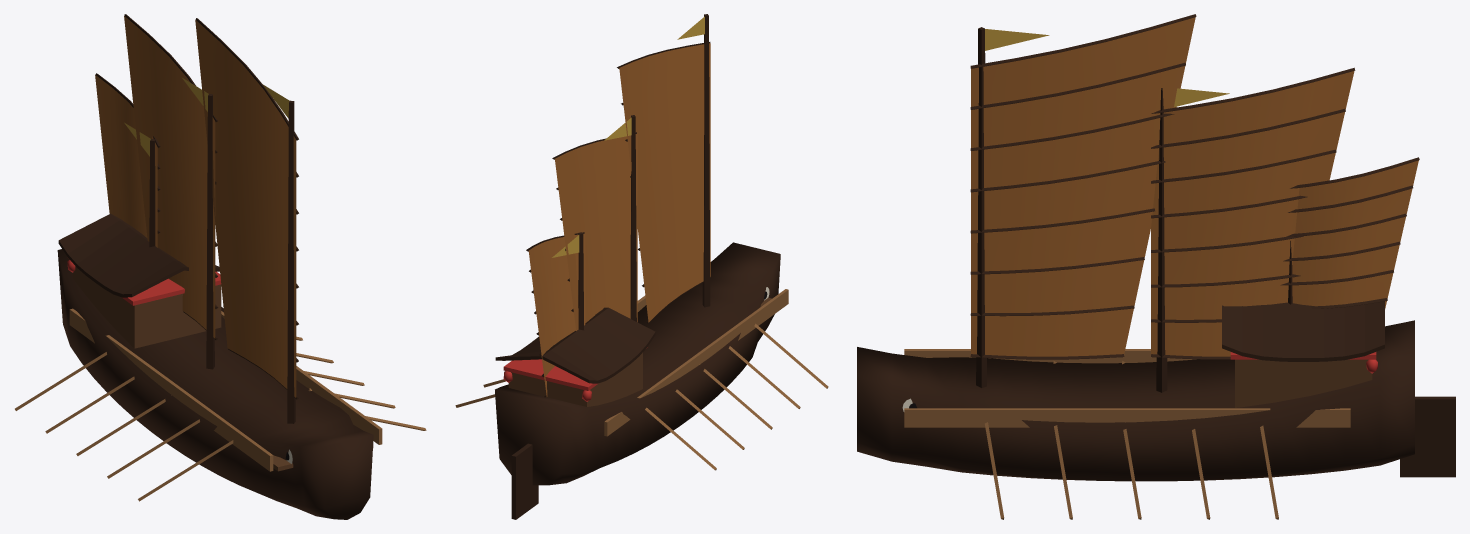
The model's file is thuyen_nam_han.lite.glb.
3 renders of one model, left to right at view 1: azimuth 30°, elevation 25°; view 2: azimuth 150°, elevation 25°; view 3: azimuth 270°, elevation 25°, orthographic. The views are drawn at different scales.
Visible parts, largest first — view 1: than, buom0, buom1, mai, buom2, lau, man-1, cot0, cot1, man1, lau_cot, cot2; view 2: than, buom0, buom1, mai, buom2, lau, man-1, cot0, lai, cot1, lau_cot, cot2; view 3: than, buom0, buom1, buom2, mai, man1, lau, lai, cot0, cot1, man-1, buom0_nep7 (+8 smaller).
Boxes of the visible parts, <box> form: than: <box>57,249,373,519</box>; buom0: <box>195,20,296,397</box>; buom1: <box>124,15,215,338</box>; mai: <box>58,213,219,297</box>; buom2: <box>95,75,157,247</box>; lau: <box>73,266,221,348</box>; man-1: <box>69,308,273,471</box>; cot0: <box>287,100,295,423</box>; cot1: <box>206,94,214,369</box>; man1: <box>221,311,382,444</box>; lau_cot: <box>67,257,221,305</box>; cot2: <box>149,139,155,247</box>; than: <box>495,242,780,485</box>; buom0: <box>619,43,710,322</box>; buom1: <box>555,133,637,330</box>; mai: <box>495,307,655,383</box>; buom2: <box>528,233,585,396</box>; lau: <box>508,352,642,406</box>; man-1: <box>604,289,788,436</box>; cot0: <box>702,14,710,307</box>; lai: <box>511,443,538,519</box>; cot1: <box>630,115,636,321</box>; lau_cot: <box>503,347,647,390</box>; cot2: <box>578,232,583,330</box>; than: <box>857,320,1414,481</box>; buom0: <box>971,17,1195,356</box>; buom1: <box>1151,71,1354,356</box>; buom2: <box>1292,160,1418,308</box>; mai: <box>1222,301,1384,361</box>; man1: <box>904,408,1350,427</box>; lau: <box>1235,359,1372,407</box>; lai: <box>1400,396,1455,477</box>; cot0: <box>976,27,986,387</box>; cot1: <box>1156,88,1167,392</box>; man-1: <box>904,349,1196,363</box>; buom0_nep7: <box>970,14,1196,68</box>.
Size of the model in its own units: 8.64 by 11.88 by 13.95.
